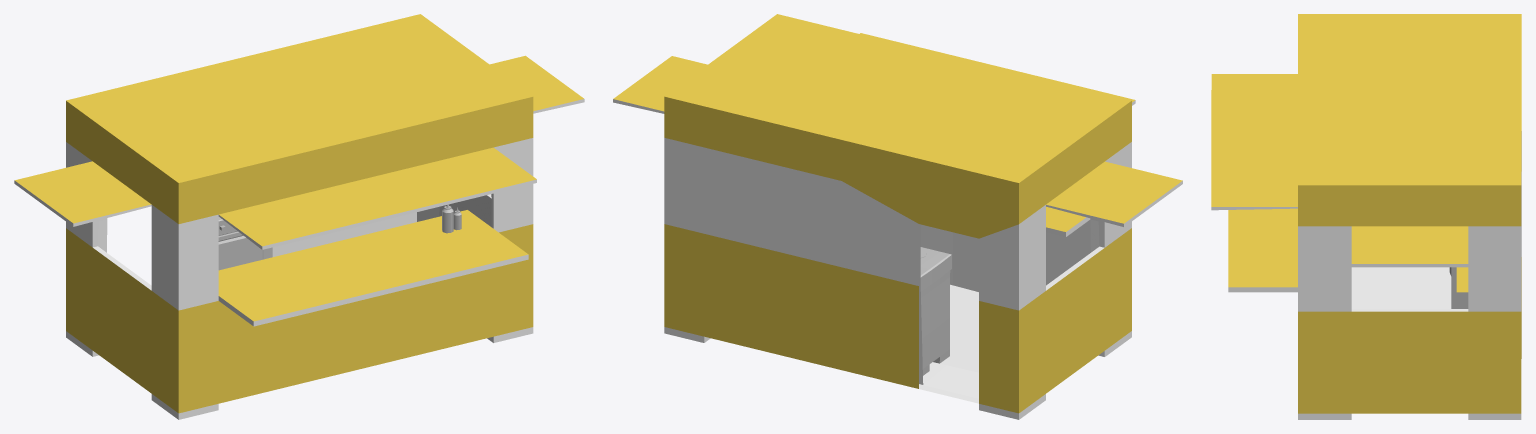
File: caseta de comida2.fbx
3 views of the same model, side by side, from view 1: azimuth 30°, elevation 25°; view 2: azimuth 150°, elevation 25°; view 3: azimuth 270°, elevation 25° (orthographic).
Parts seen in each view (by area): view 1: Casata, Cocina; view 2: Casata, Cocina; view 3: Casata, Cocina.
Part boxes in pixels (x1=…): Casata: x1=14, y1=14, x2=584, y2=419; Cocina: x1=218, y1=217, x2=272, y2=270; Casata: x1=613, y1=14, x2=1182, y2=419; Cocina: x1=920, y1=247, x2=951, y2=375; Casata: x1=1211, y1=14, x2=1521, y2=419; Cocina: x1=1449, y1=267, x2=1468, y2=308.
Size of the model in its own units: 1924 by 852 by 1021.
